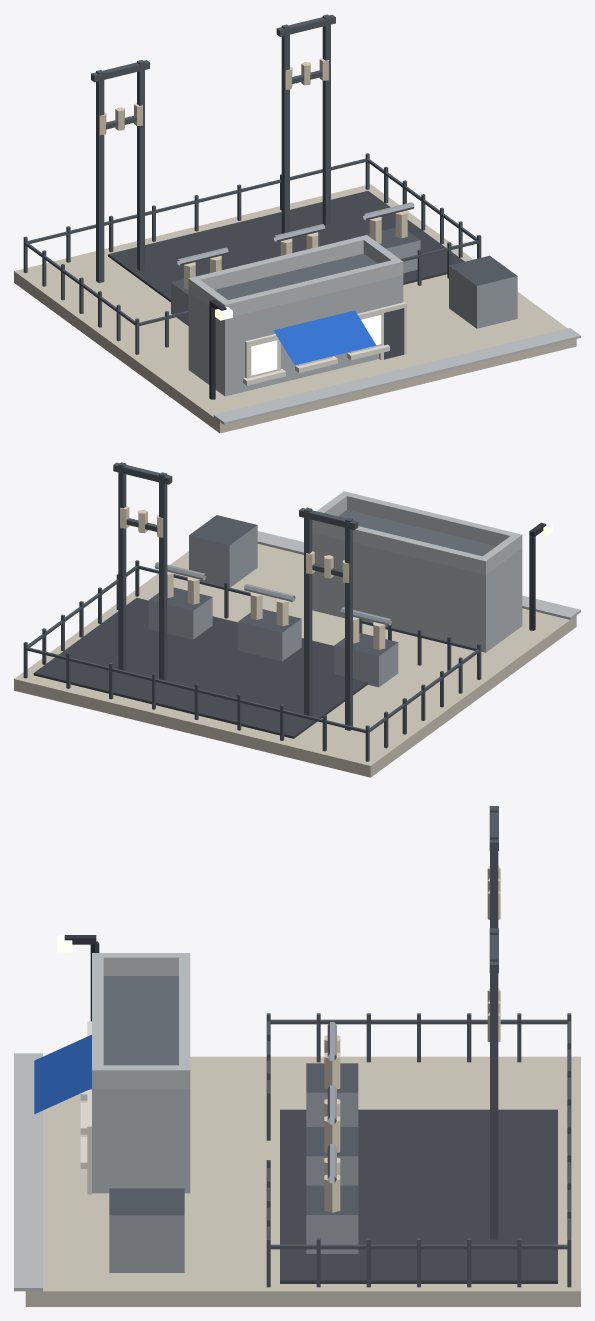
3 renders of one model, top to bottom at view 1: azimuth 30°, elevation 25°; view 2: azimuth 150°, elevation 25°; view 3: azimuth 270°, elevation 25°, orthographic. The views are drawn at different scales.
Visible parts, largest first — view 1: b35_v2; view 2: b35_v2; view 3: b35_v2.
Boxes of the visible parts, bbox=[...] form: b35_v2: bbox=[14, 14, 580, 433]; b35_v2: bbox=[14, 462, 580, 777]; b35_v2: bbox=[14, 806, 580, 1306].
Size of the model in its own units: 0.96 by 0.57 by 0.98.
